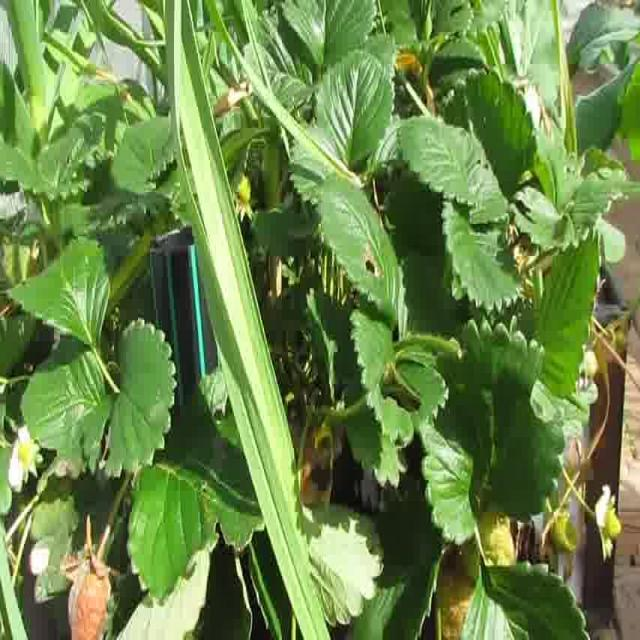Moho gris: (60, 543, 121, 640)
